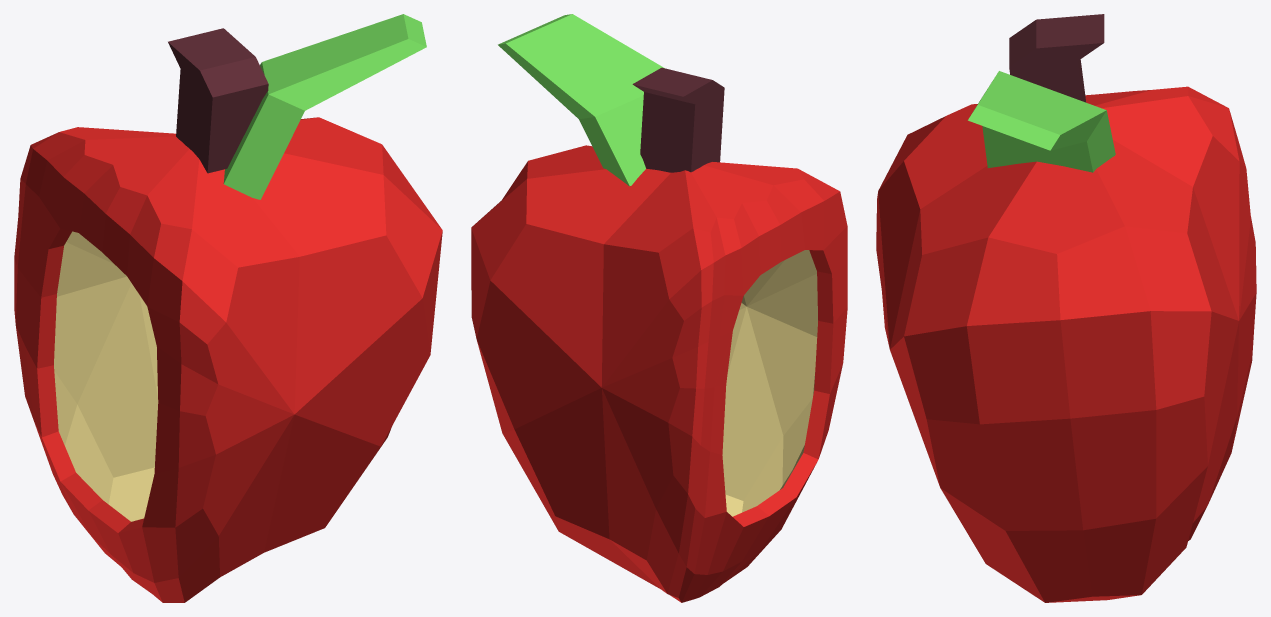
The model's file is AppleCeramicHide.fbx.
3 renders of one model, left to right at view 1: azimuth 30°, elevation 25°; view 2: azimuth 150°, elevation 25°; view 3: azimuth 270°, elevation 25°, orthographic. The views are drawn at different scales.
Visible parts, largest first — view 1: Cube; view 2: Cube; view 3: Cube.
Part boxes in pixels (x1,y1,x2,y2): Cube: (14,14,442,602); Cube: (471,14,847,602); Cube: (876,14,1256,602).
Bounding box in the file's own units: 391 × 646 × 386.
